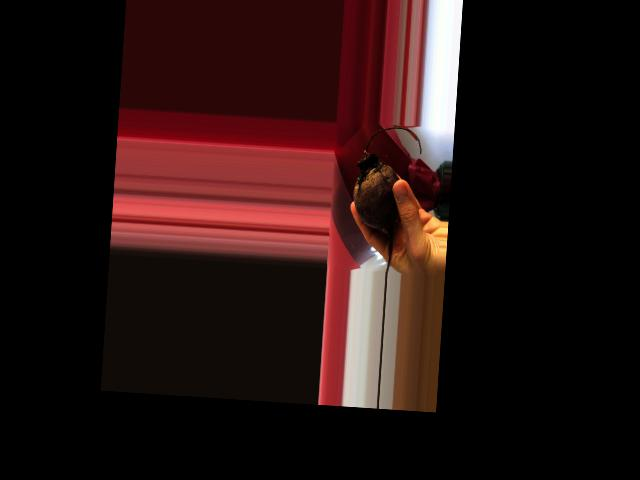beet: (348, 123, 423, 274)
